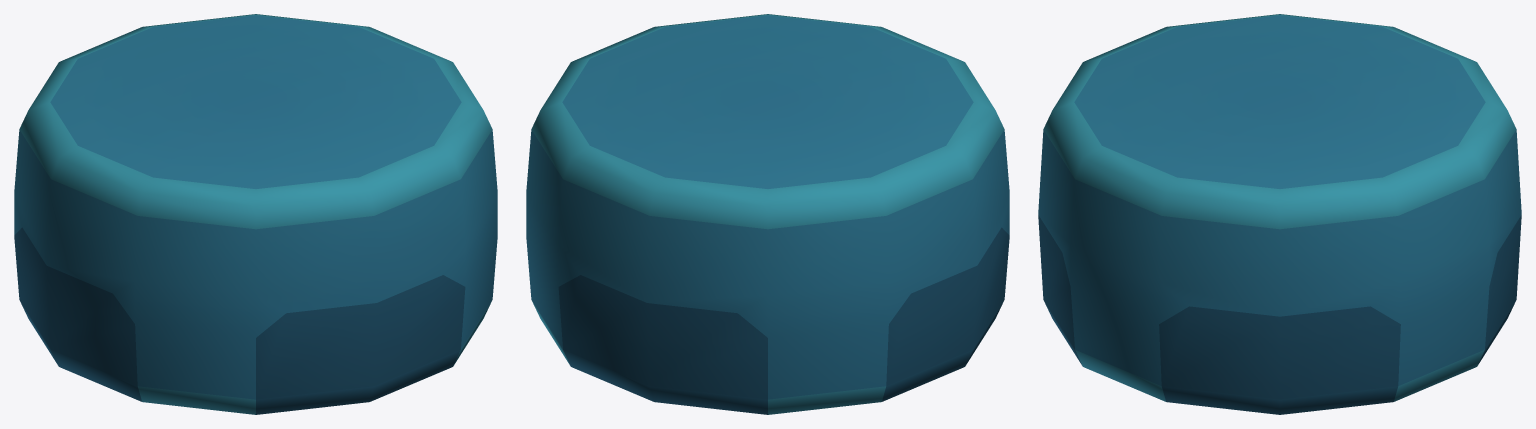
File: stool2_LOD_setup.fbx
3 renders of one model, left to right at view 1: azimuth 30°, elevation 25°; view 2: azimuth 150°, elevation 25°; view 3: azimuth 270°, elevation 25°, orthographic.
Parts seen in each view (by area): view 1: stool2_LOD0; view 2: stool2_LOD0; view 3: stool2_LOD0.
Part boxes in pixels (left/top/right/bottom): stool2_LOD0: left=14, top=14, right=497, bottom=414; stool2_LOD0: left=526, top=14, right=1009, bottom=414; stool2_LOD0: left=1038, top=14, right=1521, bottom=414.
Size of what is drawn, in the model's own units: 55.5 by 28.42 by 55.5.
